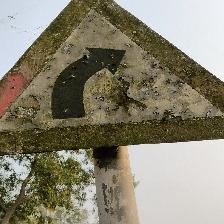Right-turn: (0, 1, 222, 153)
